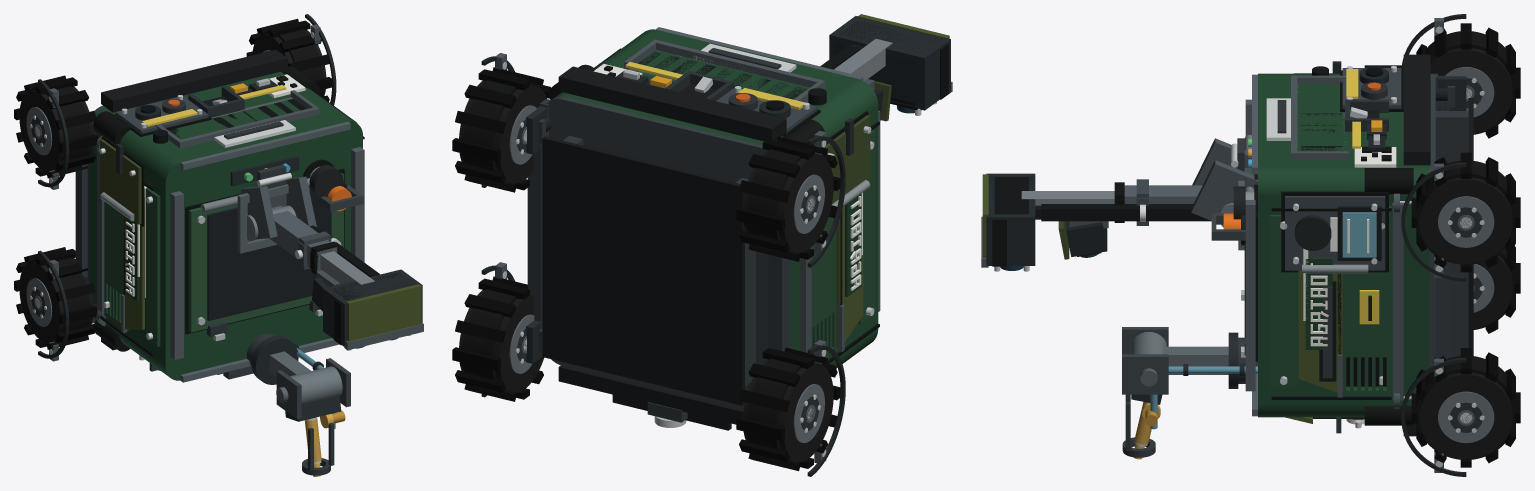
Rendered from agribot.glb.
3 renders of one model, left to right at view 1: azimuth 30°, elevation 25°; view 2: azimuth 150°, elevation 25°; view 3: azimuth 270°, elevation 25°, orthographic. The views are drawn at different scales.
Visible parts, largest first — view 1: empty_380, empty_565, empty_440, empty_232, empty_95, empty_270, empty_385, empty_59, empty_229, empty_68, empty_61, empty_555 (+46 smaller); view 2: empty_74, empty_73, empty_440, empty_232, empty_436, empty_107, empty_98, empty_97, empty_61, empty_208, empty_303, empty_99 (+54 smaller); view 3: empty_67, empty_232, empty_60, empty_100, empty_99, empty_58, empty_17, empty_440, empty_62, empty_249, empty_97, empty_56 (+52 smaller).
Part boxes in pixels (<box>): empty_380: <box>179,120,346,374</box>; empty_565: <box>207,189,331,320</box>; empty_440: <box>101,49,287,112</box>; empty_232: <box>115,72,342,159</box>; empty_95: <box>189,173,343,332</box>; empty_270: <box>346,284,421,341</box>; empty_385: <box>162,136,362,366</box>; empty_59: <box>145,188,160,346</box>; empty_229: <box>170,191,183,359</box>; empty_68: <box>90,131,162,363</box>; empty_61: <box>104,201,128,331</box>; empty_555: <box>100,139,141,224</box>; empty_74: <box>542,136,744,405</box>; empty_73: <box>562,97,762,409</box>; empty_440: <box>558,66,786,141</box>; empty_232: <box>566,33,853,144</box>; empty_436: <box>558,365,743,424</box>; empty_107: <box>829,16,950,63</box>; empty_98: <box>743,359,833,461</box>; empty_97: <box>743,150,833,252</box>; empty_61: <box>811,217,836,357</box>; empty_208: <box>835,18,943,104</box>; empty_303: <box>527,117,548,328</box>; empty_99: <box>459,80,546,183</box>; empty_67: <box>1265,196,1429,404</box>; empty_232: <box>1265,75,1429,166</box>; empty_60: <box>1342,206,1391,396</box>; empty_100: <box>1419,372,1512,459</box>; empty_99: <box>1419,177,1512,263</box>; empty_58: <box>1270,215,1297,387</box>; empty_17: <box>1285,196,1385,270</box>; empty_440: <box>1403,54,1430,165</box>; empty_62: <box>1265,166,1429,195</box>; empty_249: <box>1041,204,1211,221</box>; empty_97: <box>1430,48,1512,133</box>; empty_56: <box>1392,202,1403,400</box>.
Size of the model in its own units: 0.29 by 0.3327 by 0.4405.
